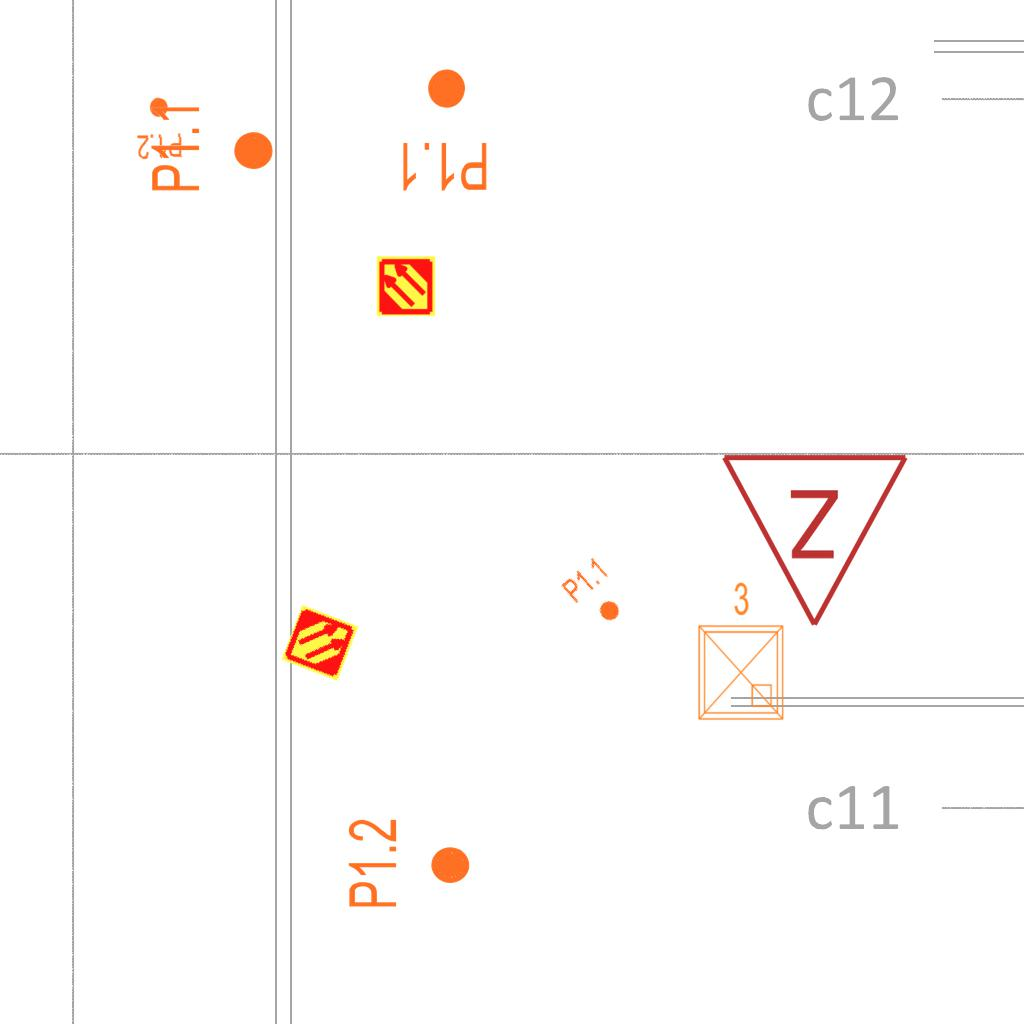ASR_Ansaugrauchmelder: (279, 602, 361, 684), (375, 255, 437, 317)
Downlight_LED_Einbauleuchten_Flur: (345, 817, 473, 910), (397, 66, 490, 194), (148, 101, 276, 194), (558, 554, 636, 634), (134, 94, 184, 162)
Einbaudownlights_LED_Konferenzraeume: (687, 577, 791, 727)
Zimmersignalleuchte: (719, 440, 915, 640)
